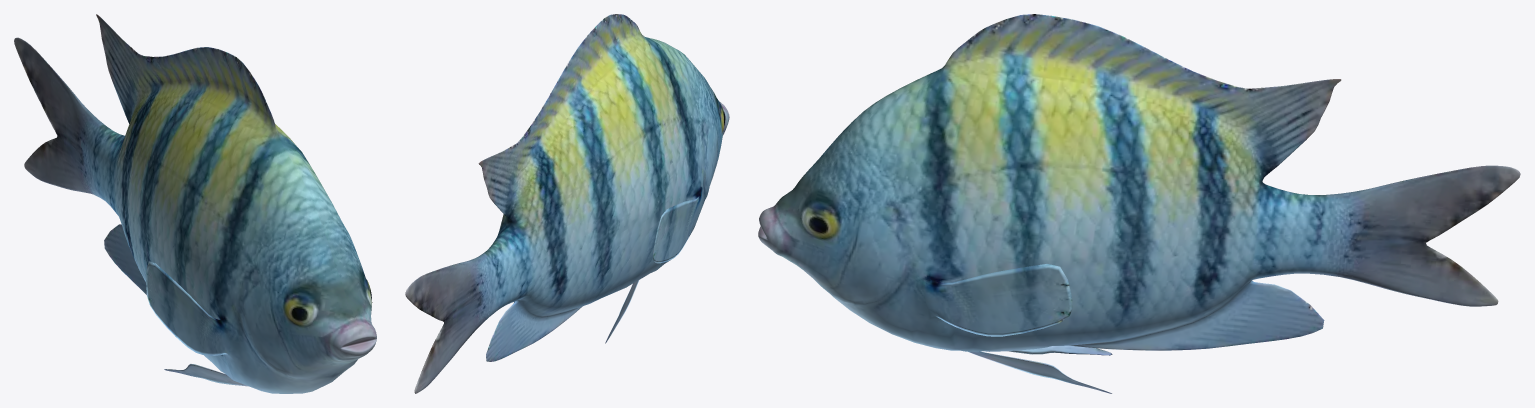
Rendered from damselfish.glb.
The picture shows the model from 3 angles, left to right: view 1: azimuth 30°, elevation 25°; view 2: azimuth 150°, elevation 25°; view 3: azimuth 270°, elevation 25°; orthographic projection. The views are drawn at different scales.
Visible parts, largest first — view 1: Damselfish_Damselfish_0; view 2: Damselfish_Damselfish_0; view 3: Damselfish_Damselfish_0.
Part boxes in pixels (x1,y1,x2,y2): Damselfish_Damselfish_0: (14,14,376,393); Damselfish_Damselfish_0: (405,14,729,393); Damselfish_Damselfish_0: (758,14,1520,393).
Size of the model in its own units: 0.2515 by 0.5218 by 1.
1 material, 1 textured.
